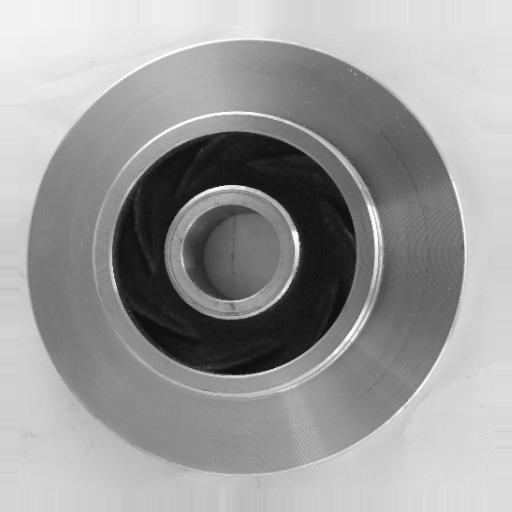polished_casting: (27, 34, 469, 477)
